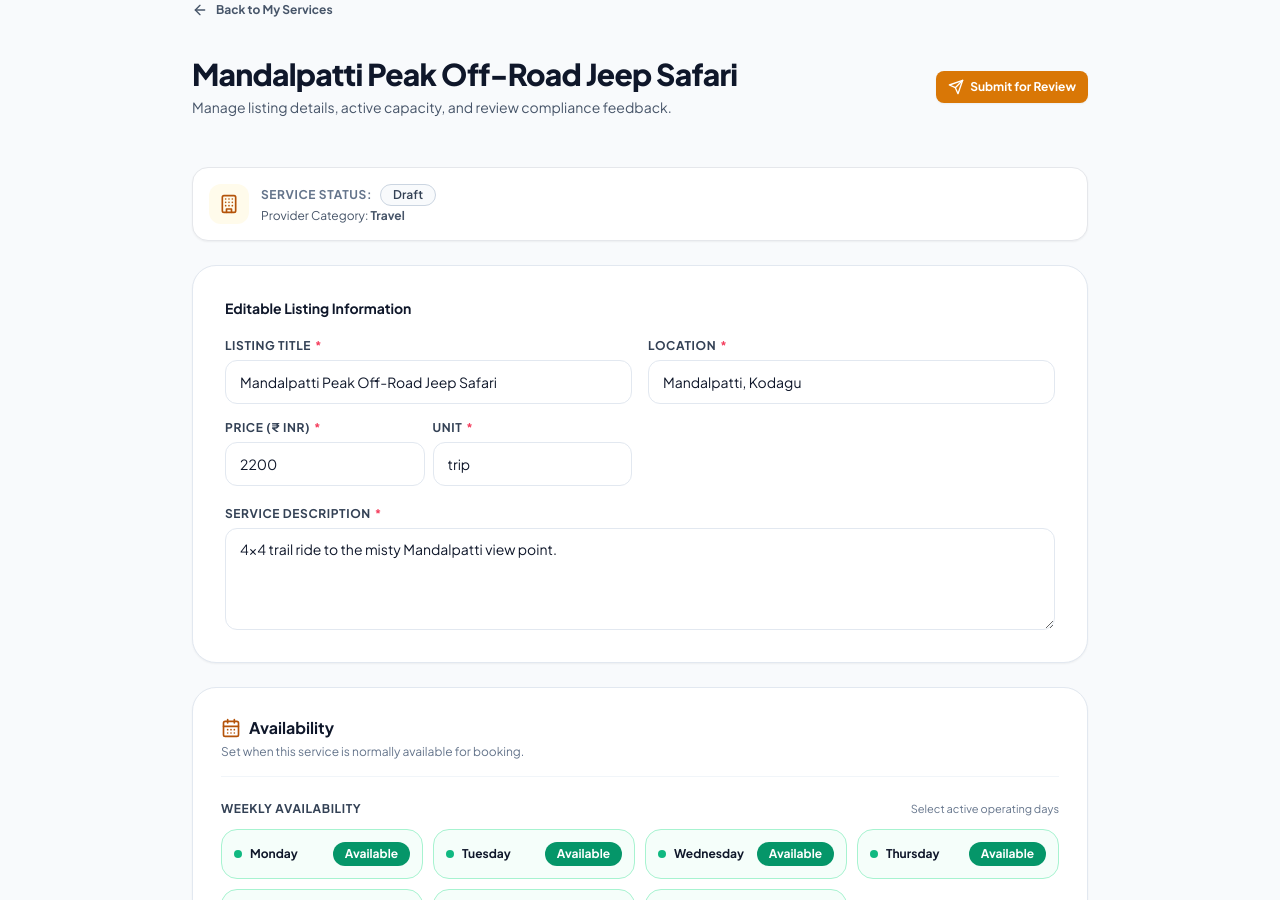
Test: Provider Service Management Component Suite › loads and edits existing service in PartnerServiceDetailPage
Check: the heading "Mandalpatti Peak Off-Road Jeep Safari" is shown, box [192,56,737,92]
Edit Price & Save
Replace the text in the number field showing "2200" with "2500": [325, 464] box [225,442,424,486]
(page scrolled)
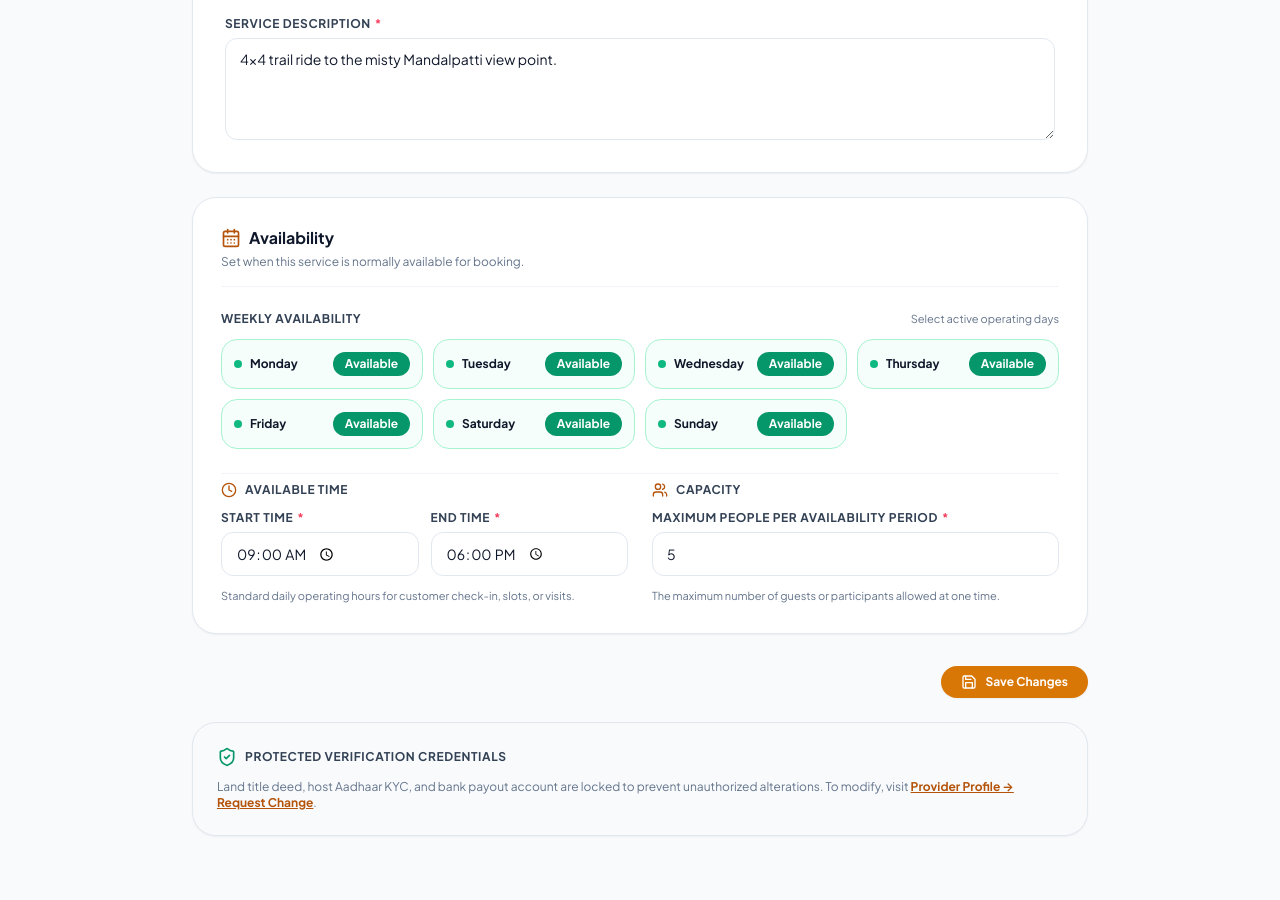
Click the button "Save Changes": [1015, 682] box [942,666,1088,698]
(page scrolled)
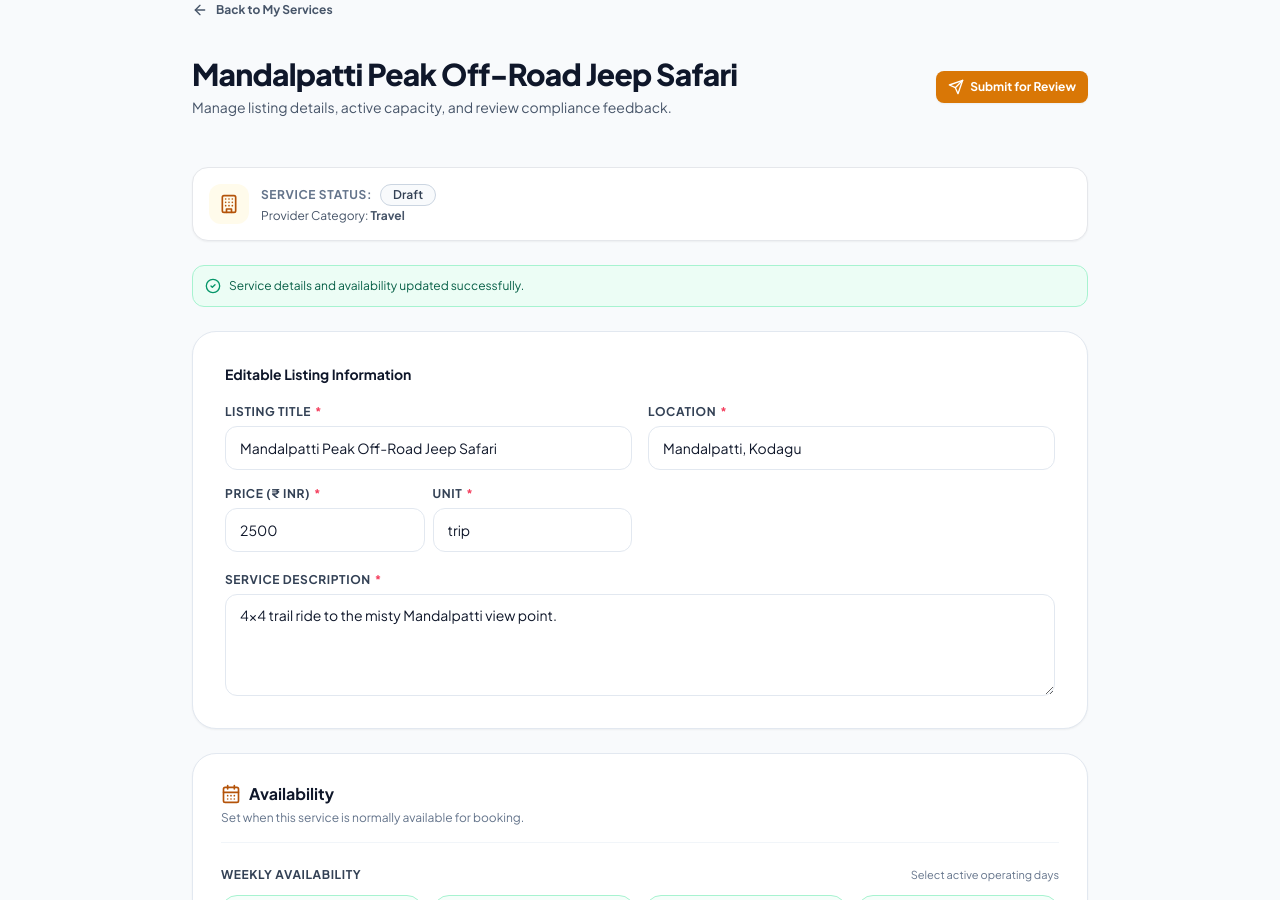
Submit for Review
Click the button "Submit for Review": [1012, 87] box [936,71,1088,103]
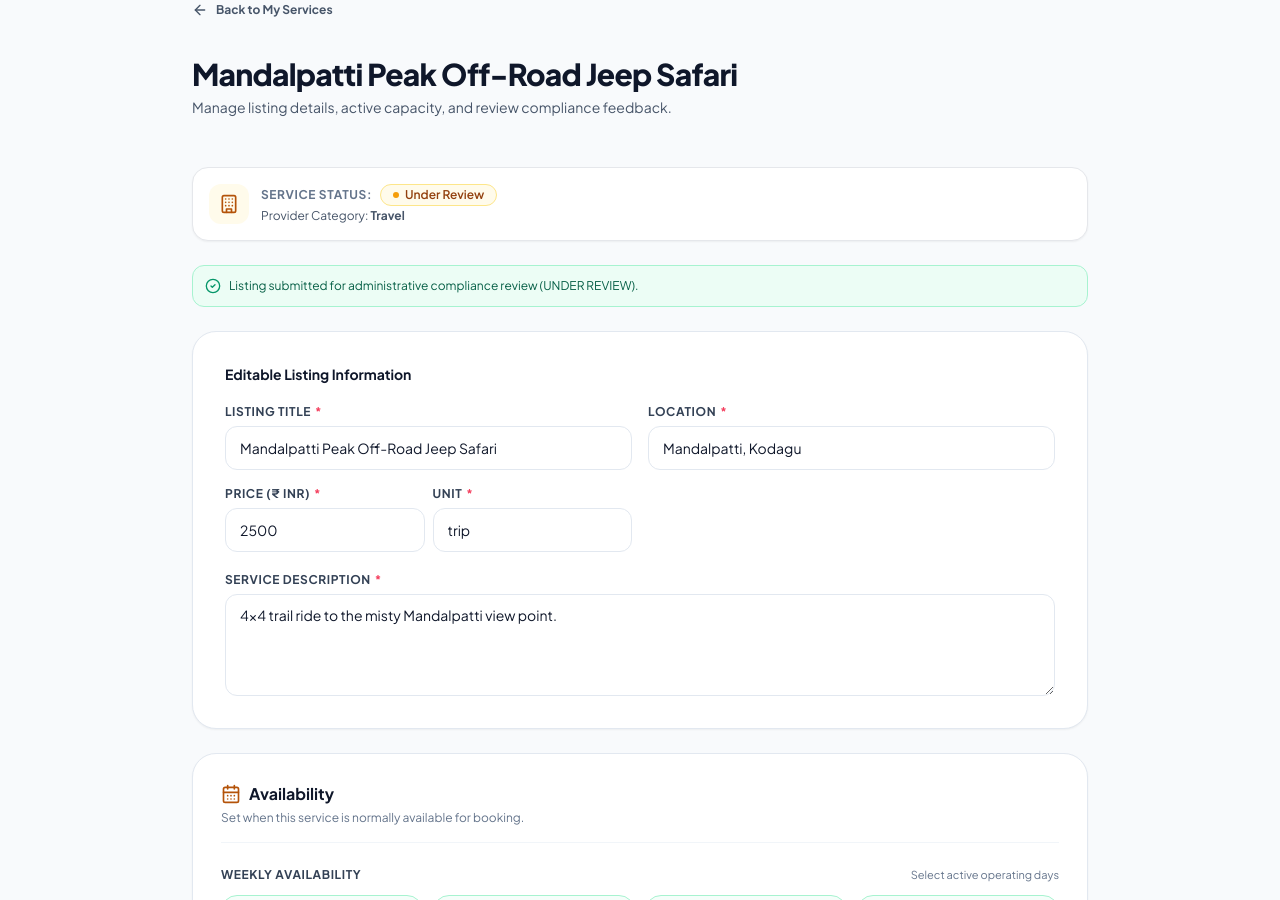
Check: the text "Listing submitted for administrative compliance review" is shown, box [229,278,638,293]
